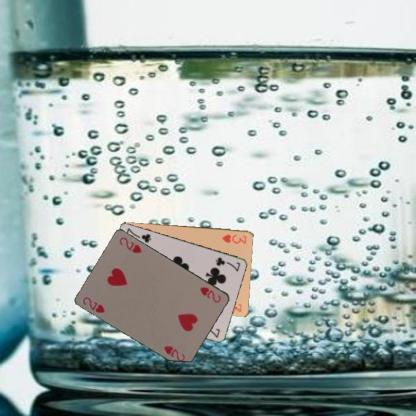2h: (80, 294, 107, 314), (198, 284, 222, 304)
3h: (219, 232, 248, 245)
7c: (213, 254, 242, 273)
